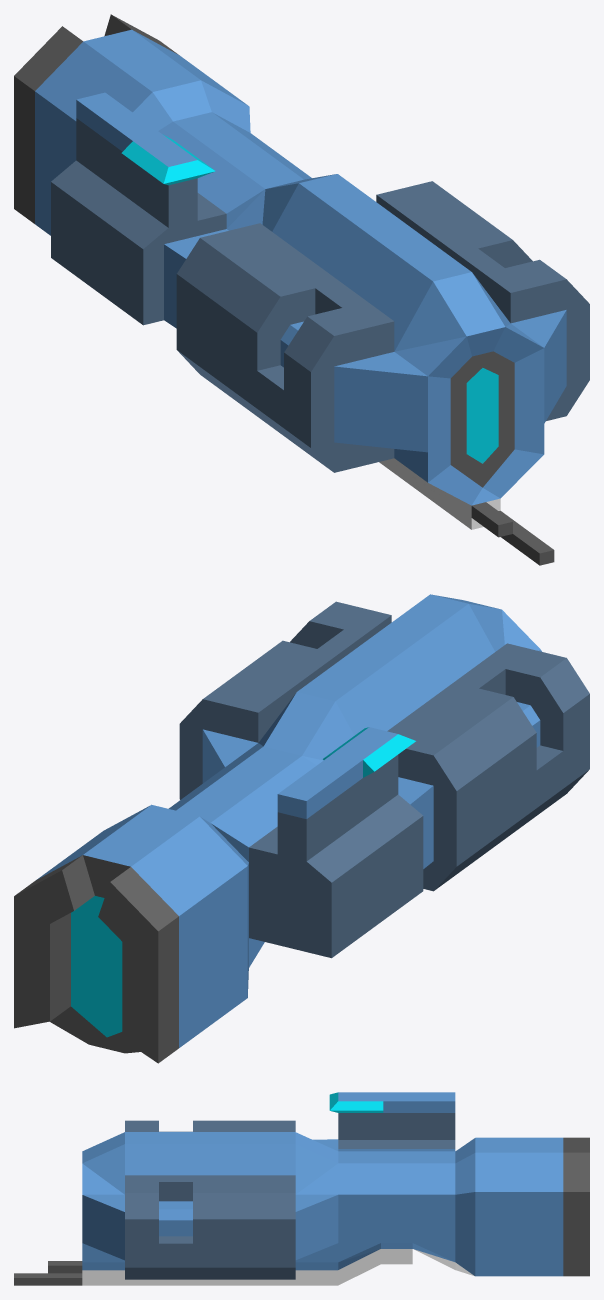
The model's file is block_frigate_heavy.fbx.
3 renders of one model, top to bottom at view 1: azimuth 30°, elevation 25°; view 2: azimuth 150°, elevation 25°; view 3: azimuth 270°, elevation 25°, orthographic. The views are drawn at different scales.
Parts seen in each view (by area): view 1: block_frigate_heavy; view 2: block_frigate_heavy; view 3: block_frigate_heavy.
Boxes of the visible parts, box(x1,y1,x2,y2) form: block_frigate_heavy: box(14, 14, 589, 565); block_frigate_heavy: box(14, 594, 589, 1063); block_frigate_heavy: box(14, 1092, 589, 1285).
Size of the model in its own units: 24 by 19.75 by 67.52.
1 material, 1 textured.
